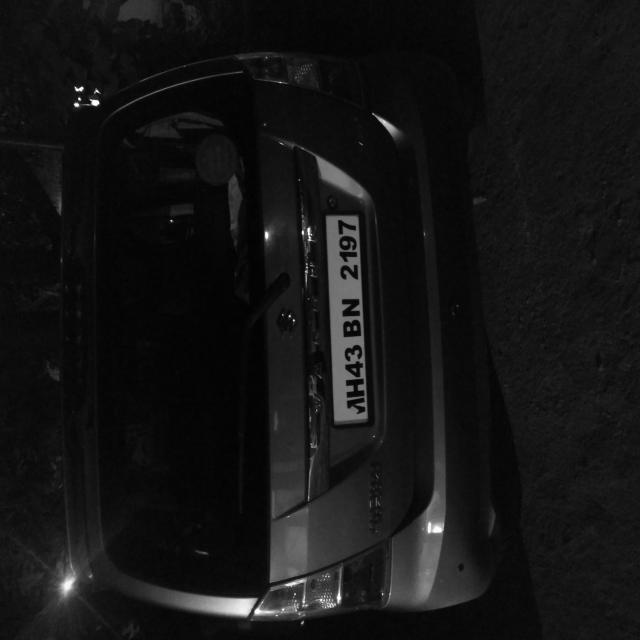license-plate: (158, 433, 322, 500)
